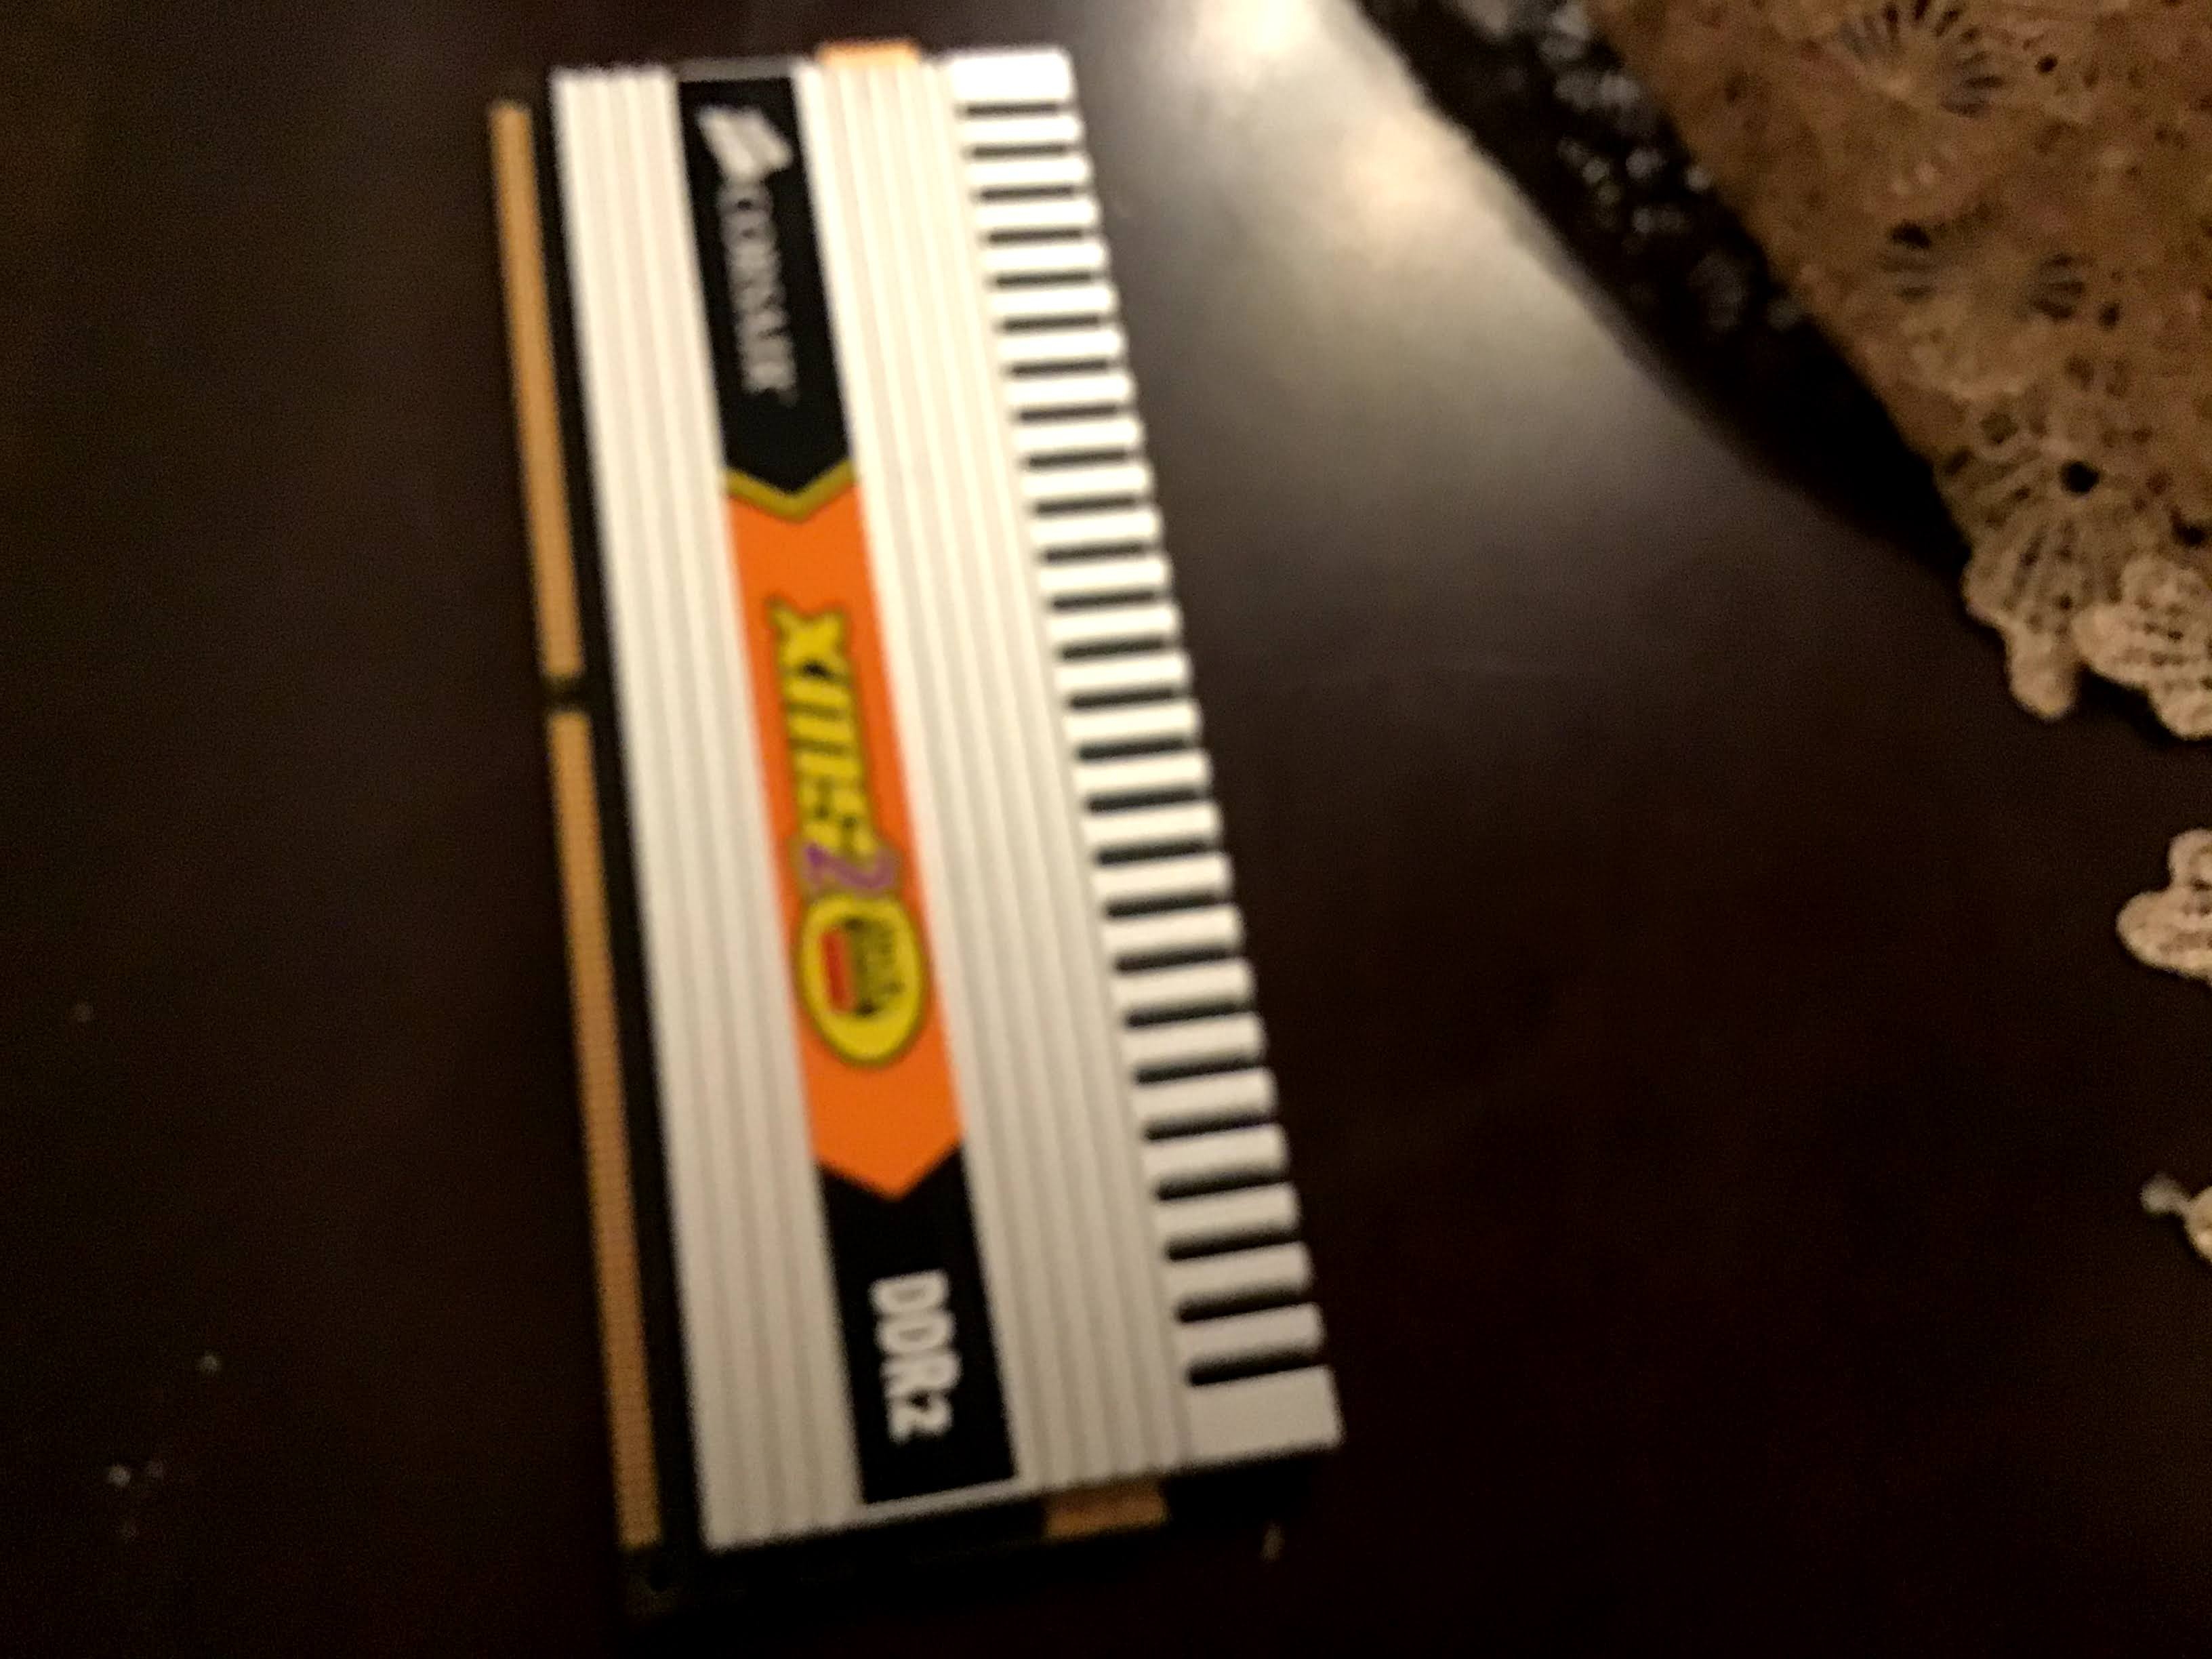Space-debris-medium: (427, 28, 1491, 1593)
